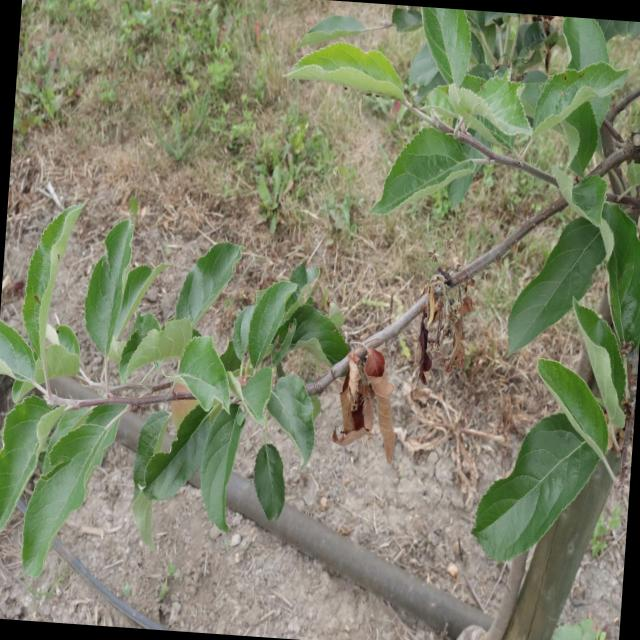-FireBlight-: (324, 346, 400, 462), (414, 276, 468, 378)
